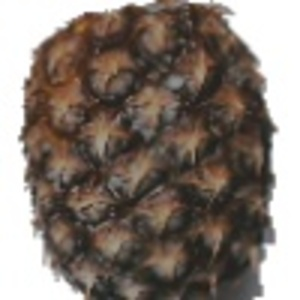abacaxi: (13, 4, 283, 295)
